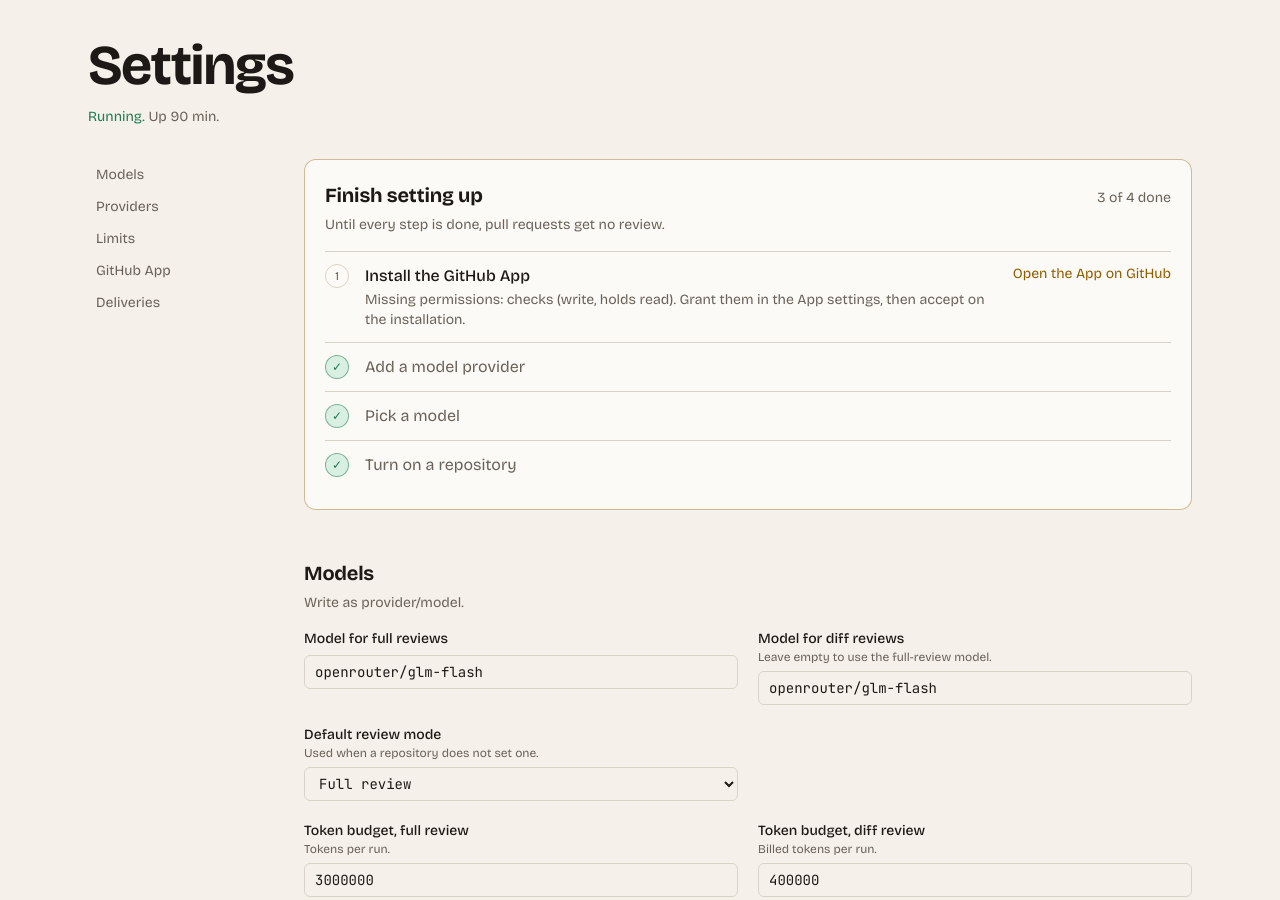
Test: SettingsView (decision 175) › discards back to what was saved
Replace the text in the field labelled "Model for full reviews" with "x/y" at x=521, y=672, box [304, 655, 738, 689]
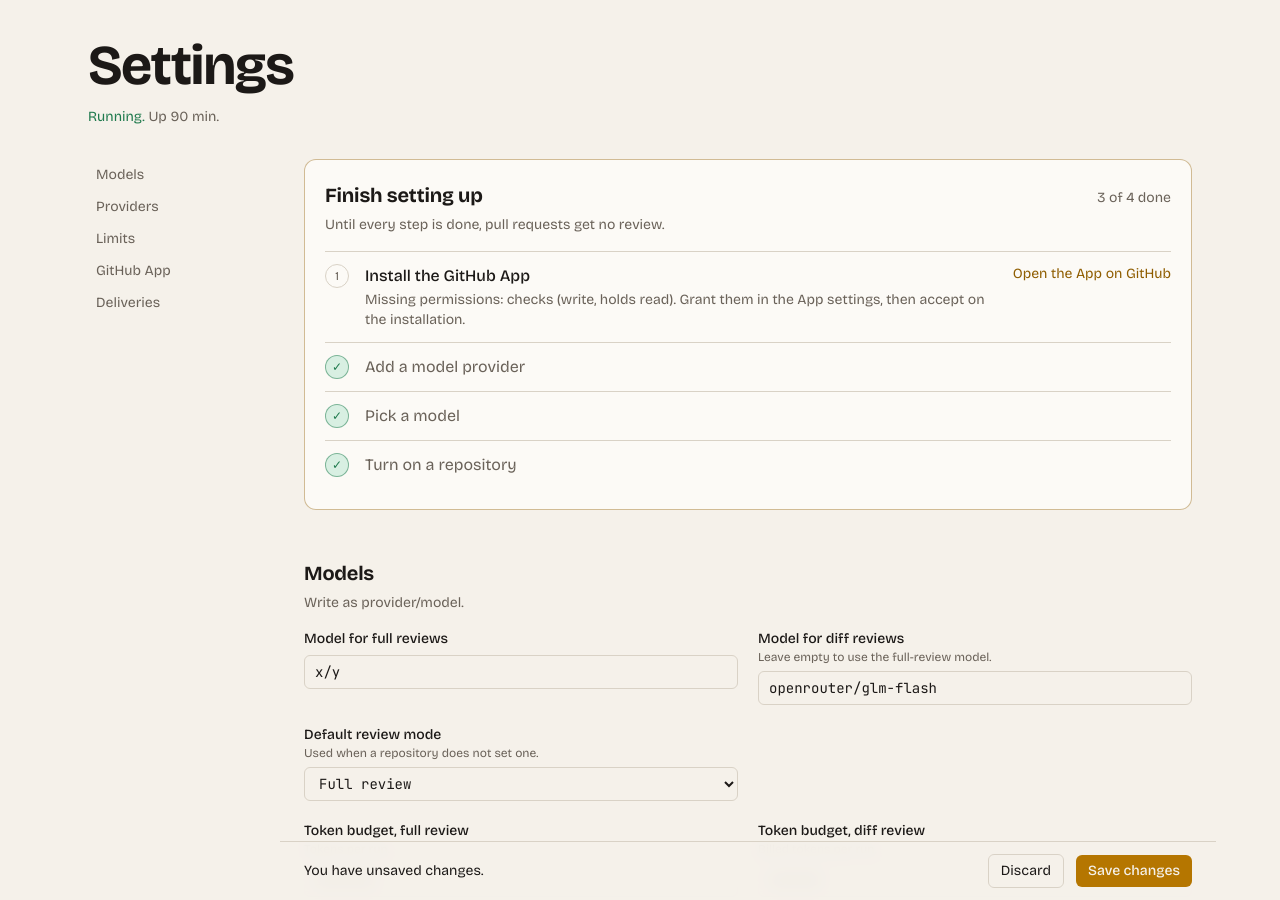
Click the button "Discard".
click(1026, 871)  # box [988, 854, 1064, 888]
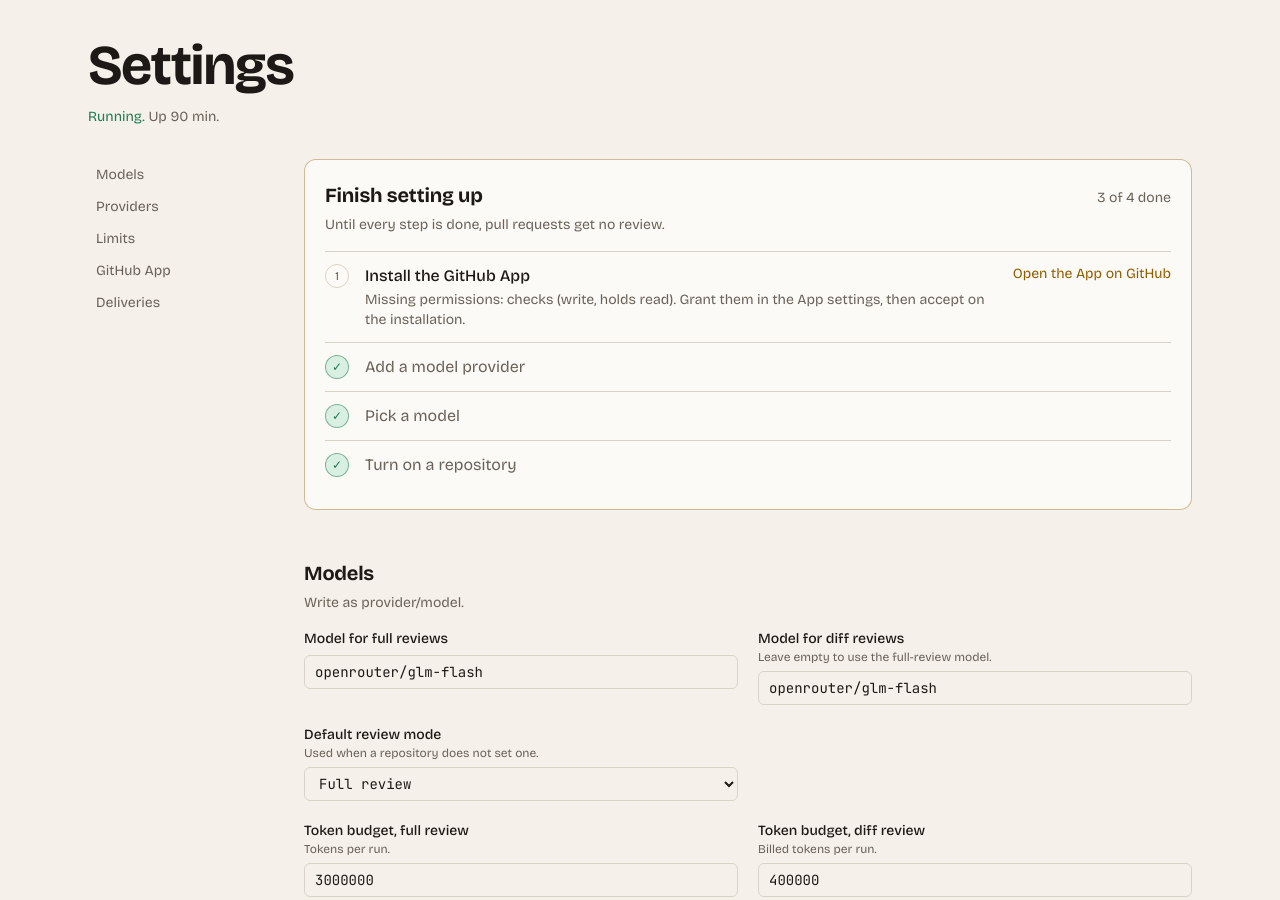
Now the field labelled "Model for full reviews" holds "openrouter/glm-flash", box [304, 655, 738, 689]
Now the button "Save changes" is gone
